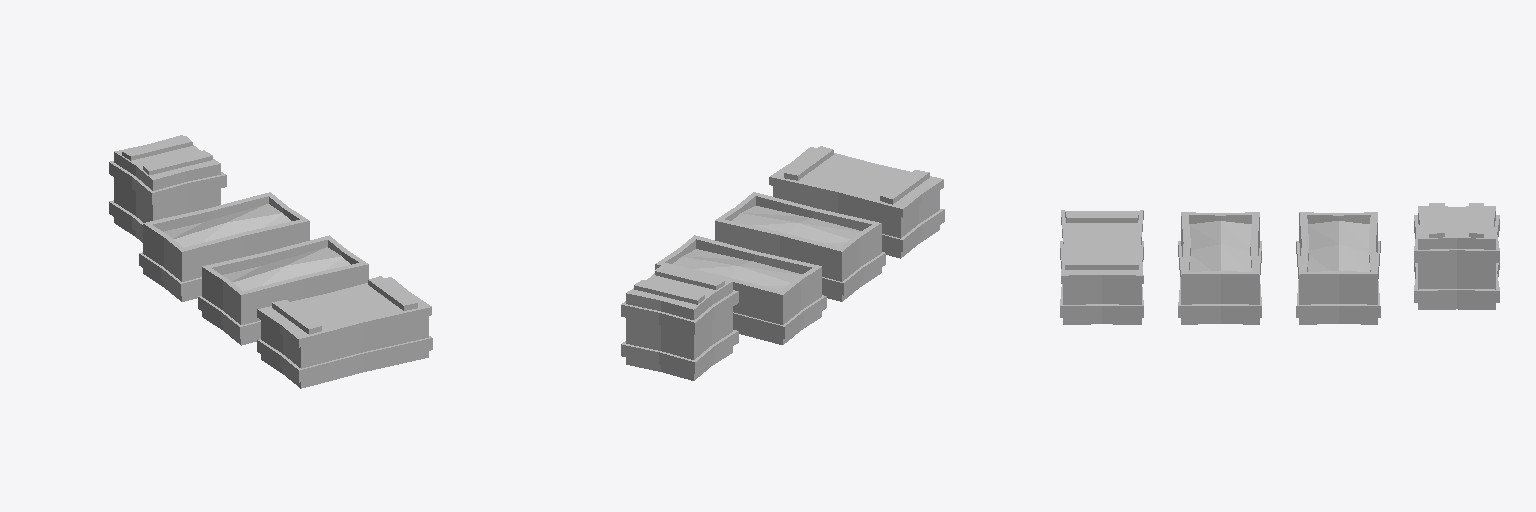
File: marketBox.obj
3 renders of one model, left to right at view 1: azimuth 30°, elevation 25°; view 2: azimuth 150°, elevation 25°; view 3: azimuth 270°, elevation 25°, orthographic.
Visible parts, largest first — view 1: Boxes w_Boxes w_0; view 2: Boxes w_Boxes w_0; view 3: Boxes w_Boxes w_0.
Part boxes in pixels (bbox=[...]): Boxes w_Boxes w_0: bbox=[109, 135, 432, 388]; Boxes w_Boxes w_0: bbox=[621, 146, 944, 380]; Boxes w_Boxes w_0: bbox=[1060, 203, 1499, 324].
Size of the model in its own units: 3.91 by 2.12 by 11.16.